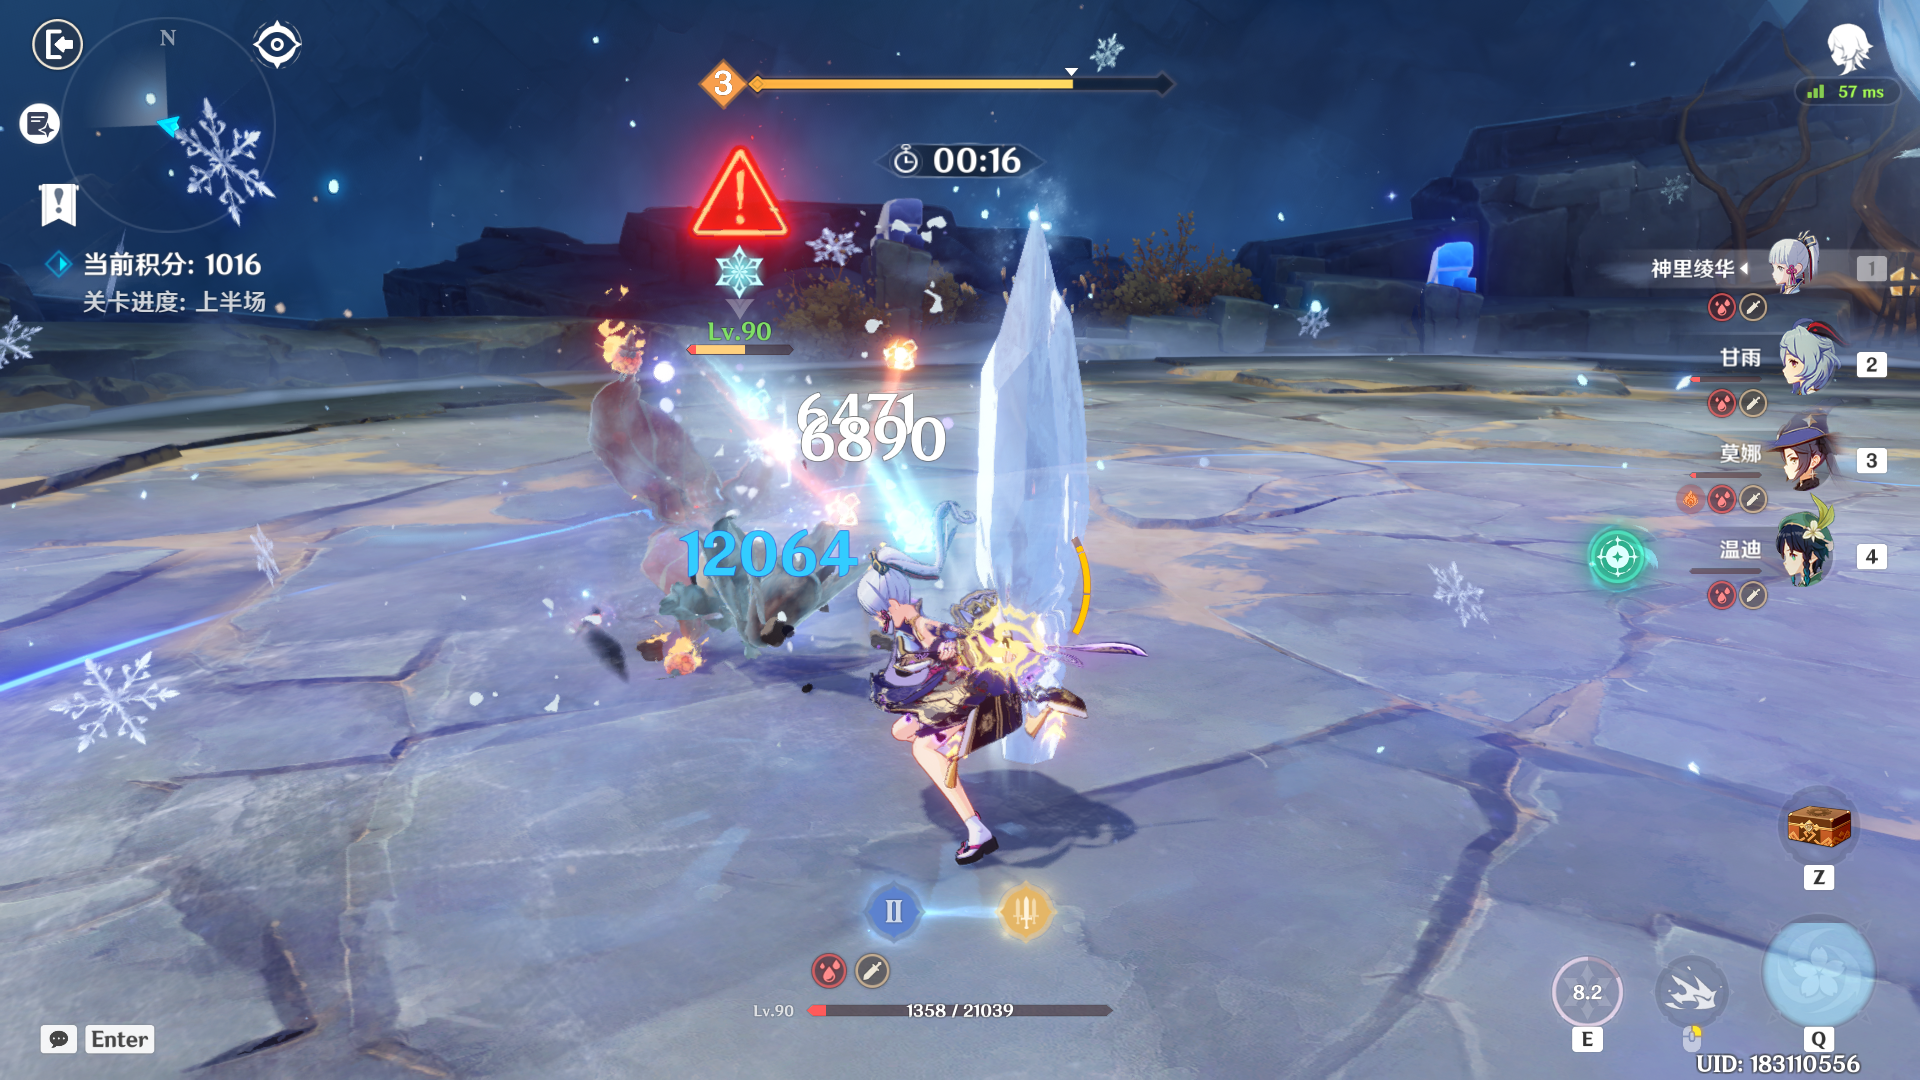character: (825, 541, 1116, 899)
